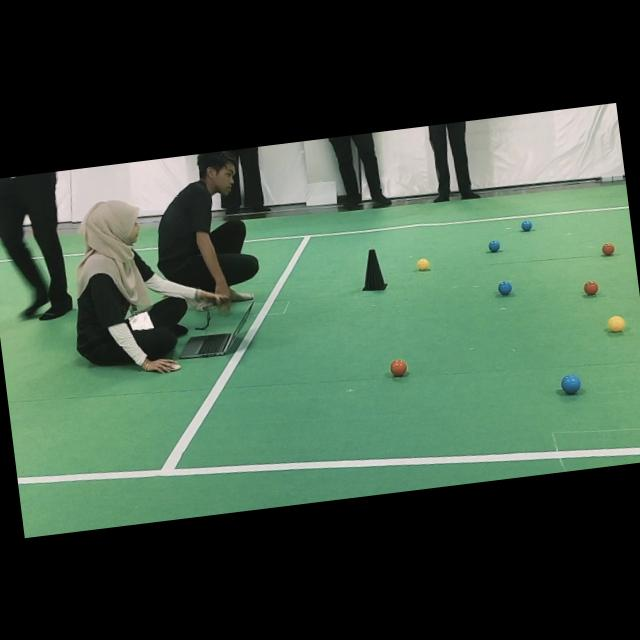ball: (561, 373, 580, 394), (607, 315, 626, 332), (390, 358, 407, 376), (583, 280, 598, 295), (497, 281, 512, 295), (601, 242, 615, 255), (416, 258, 429, 270), (488, 240, 500, 252), (521, 220, 532, 231)
